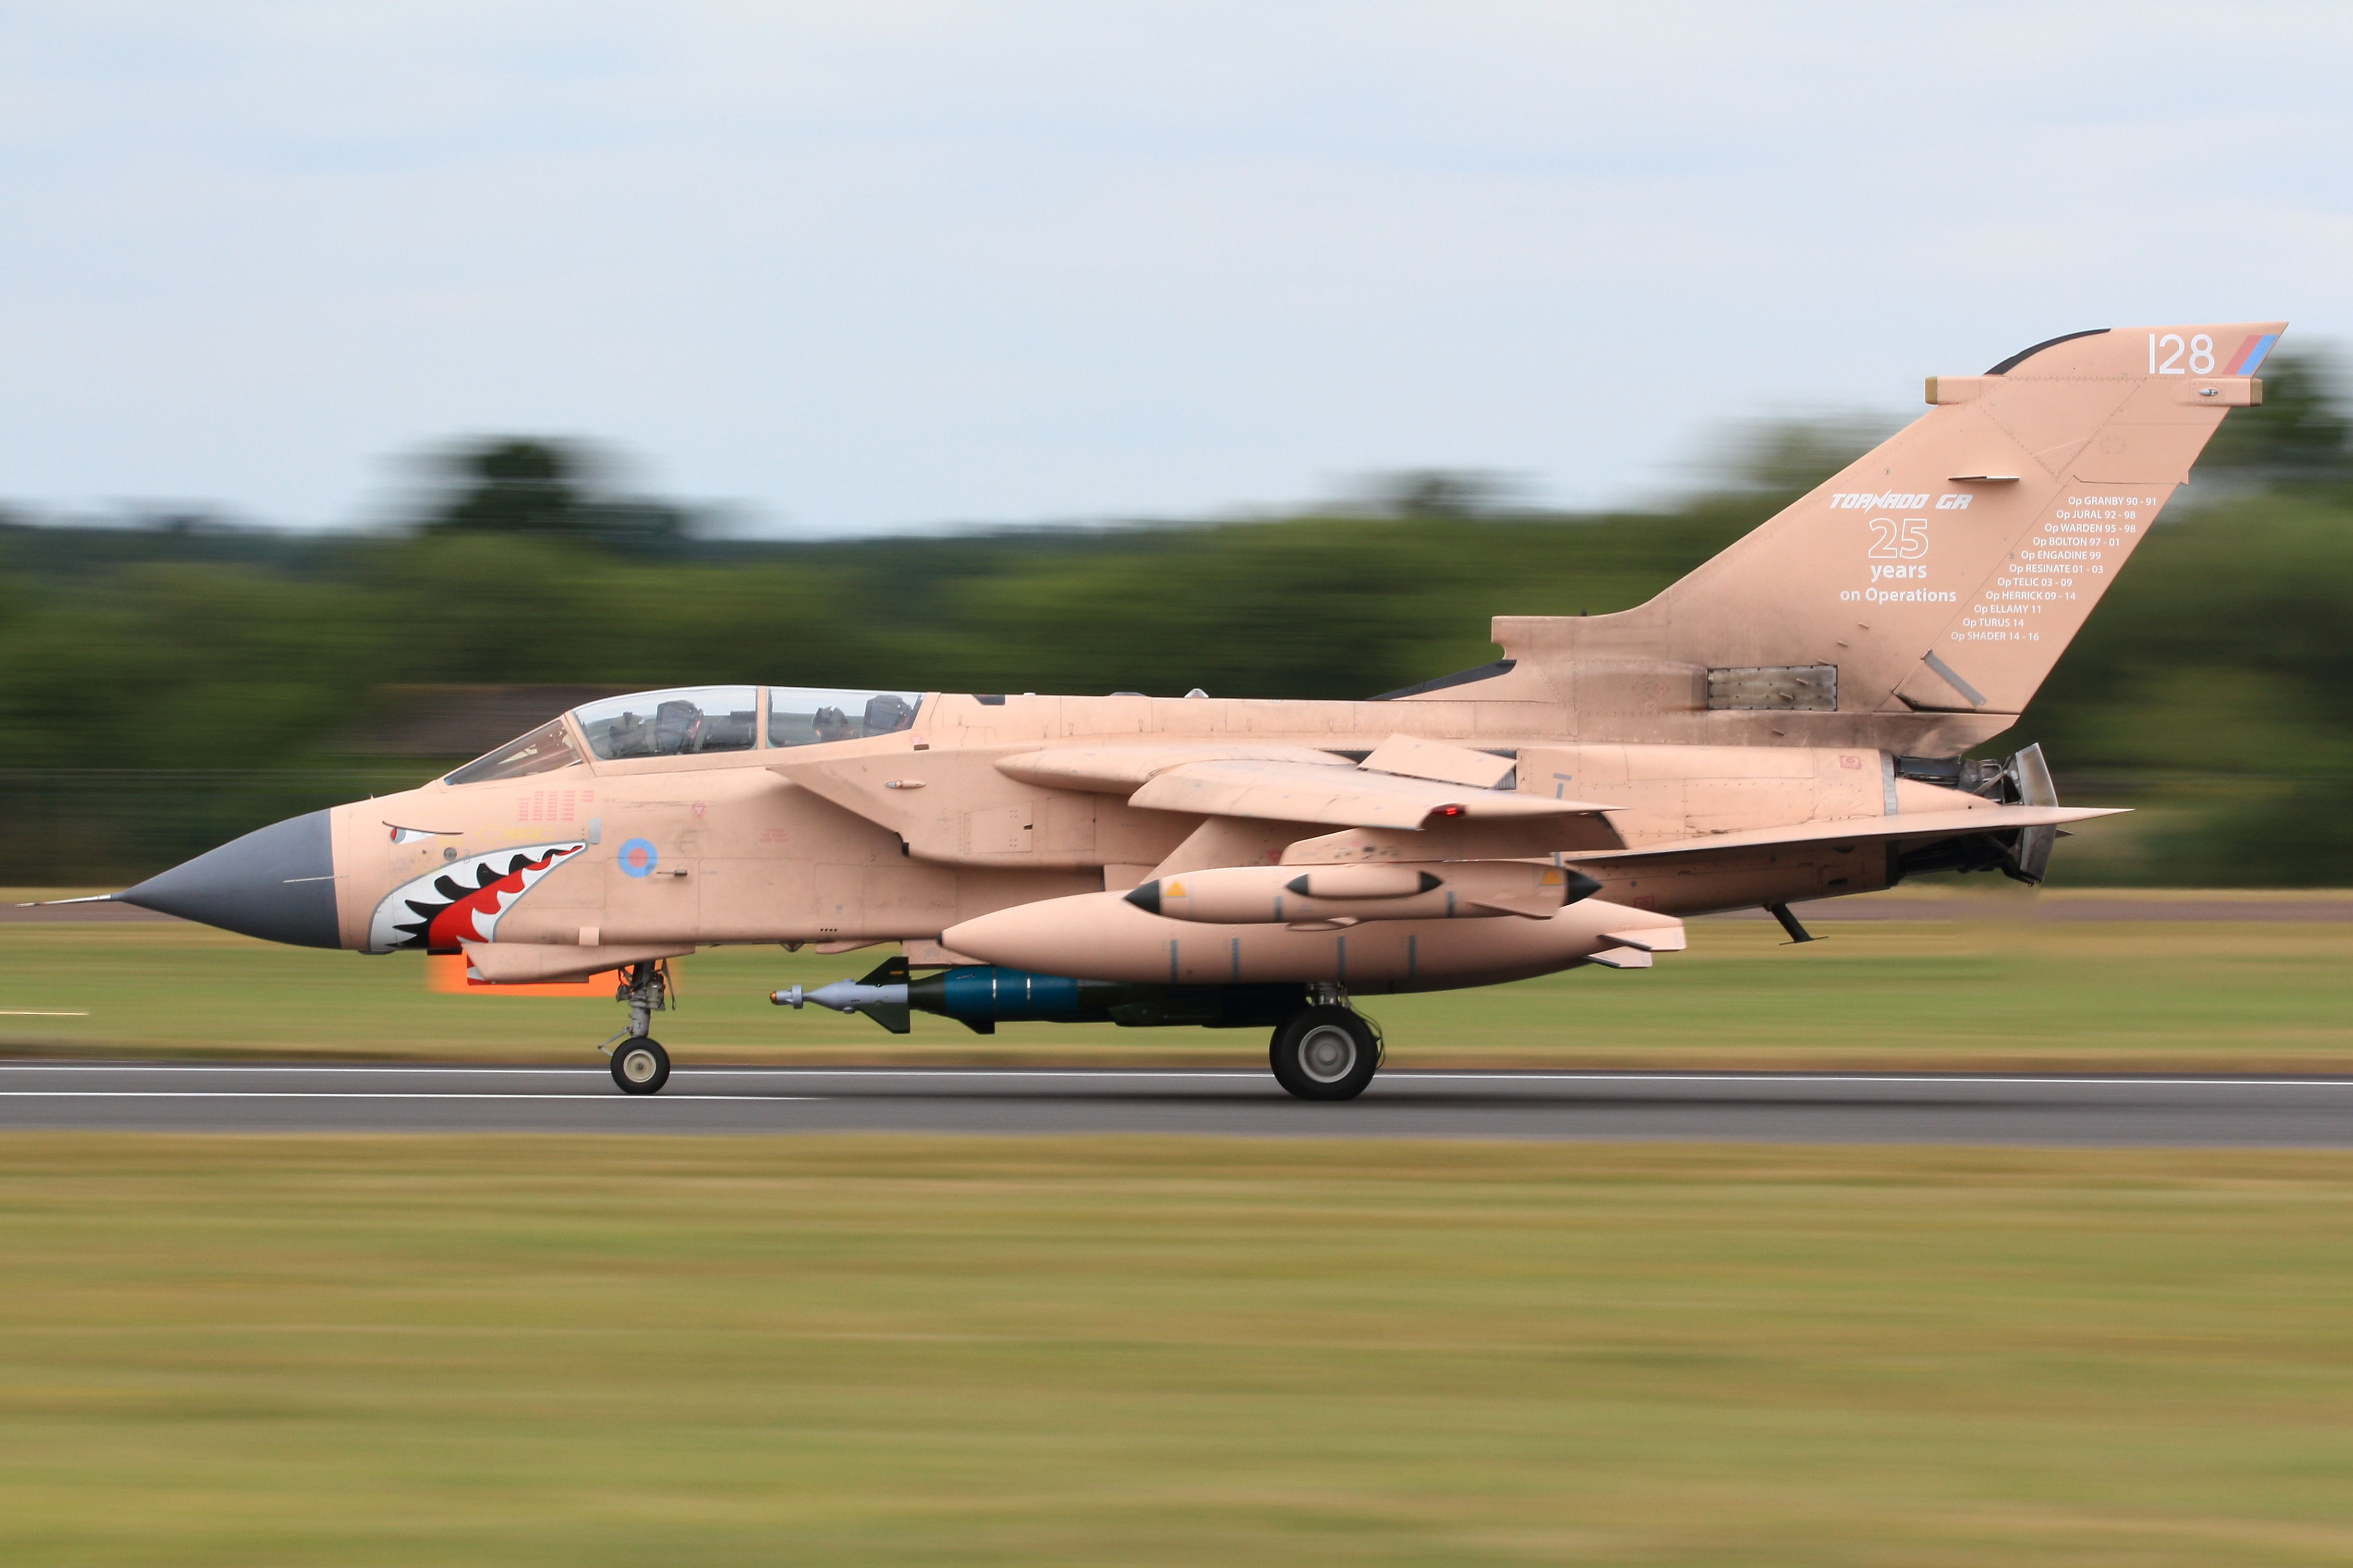Tornado: (14, 318, 2290, 1101)
